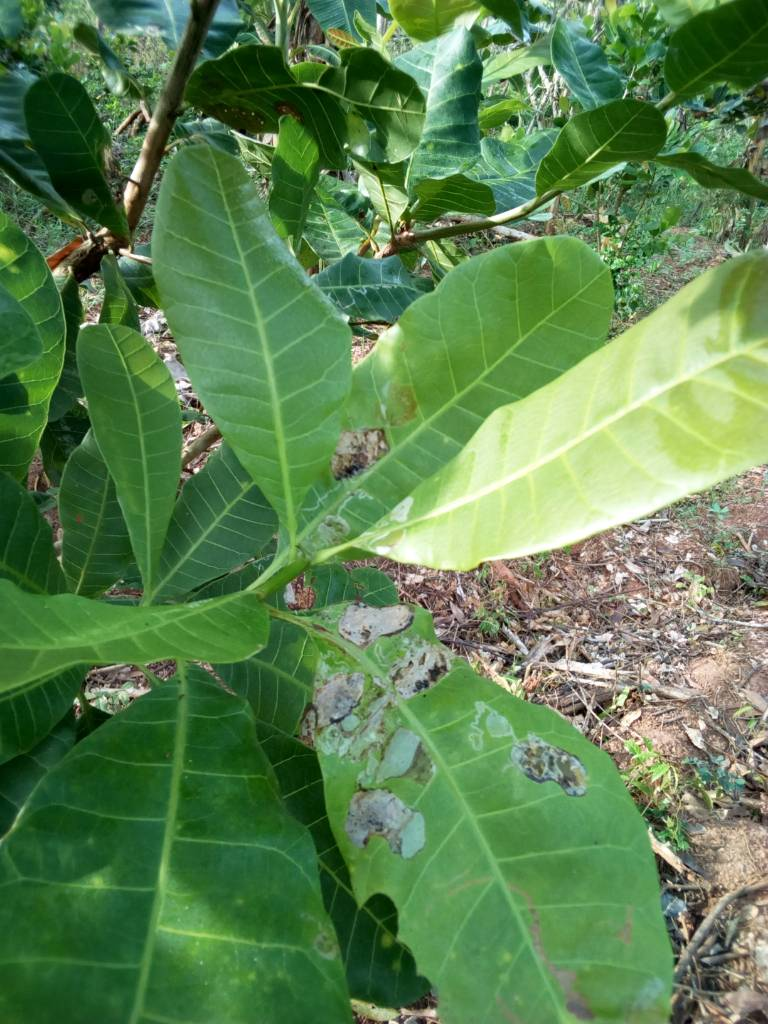Bactériose: (307, 597, 674, 1024), (302, 375, 457, 550)
